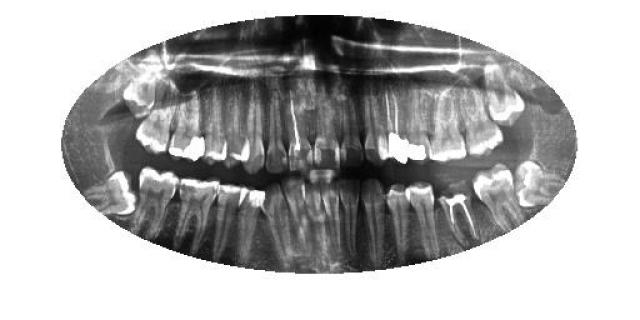Cavity: (439, 176, 481, 242), (313, 86, 342, 170), (341, 91, 364, 170)
Fillings: (169, 90, 206, 161), (236, 184, 265, 264), (405, 94, 426, 161)
Implant: (438, 176, 478, 244), (382, 86, 408, 165)
Restorations: (510, 159, 570, 206), (81, 168, 140, 214)
